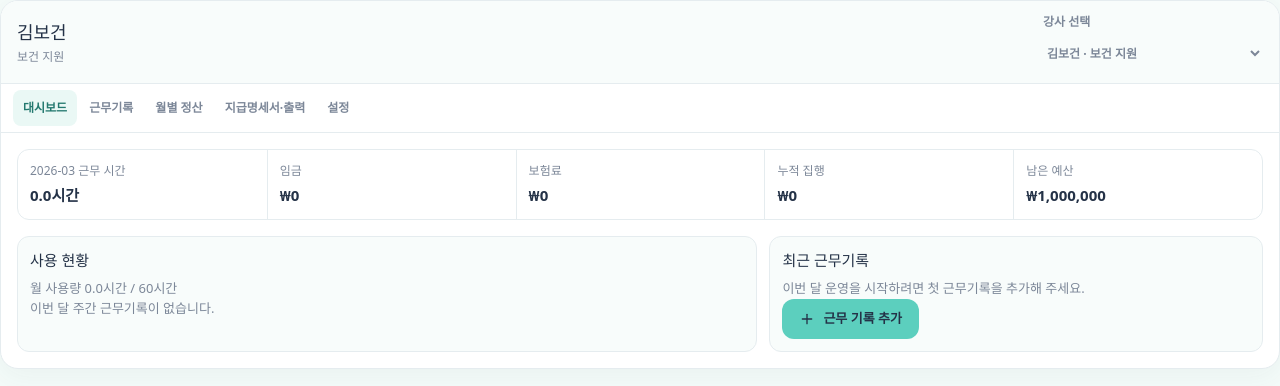
Test: HealthSupportInstructorWorkspace › shows a selector only when more than one instructor exists
Select "이건강 · 건강 교육" in the dropdown labelled "강사 선택" at coordinates (1153, 53), box 1043,35 -> 1263,71
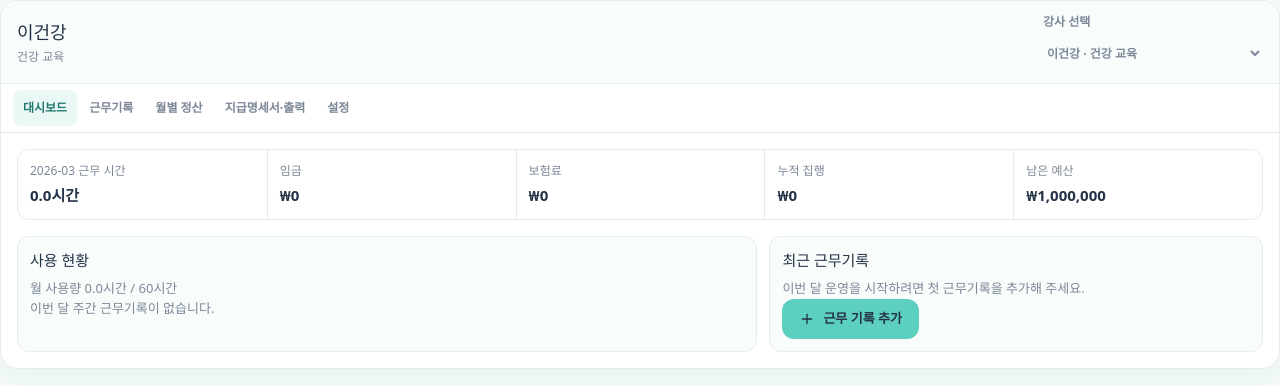
Now the heading "이건강" is shown, box 17,18 -> 67,46
